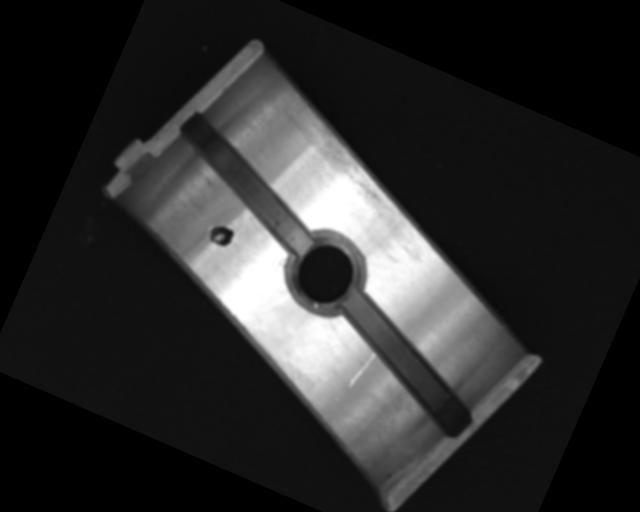blot: (203, 220, 236, 249)
gap: (313, 287, 497, 440), (154, 110, 339, 258)
hole: (275, 221, 374, 325)
nick: (347, 347, 376, 392)
scratch: (266, 93, 429, 218)
